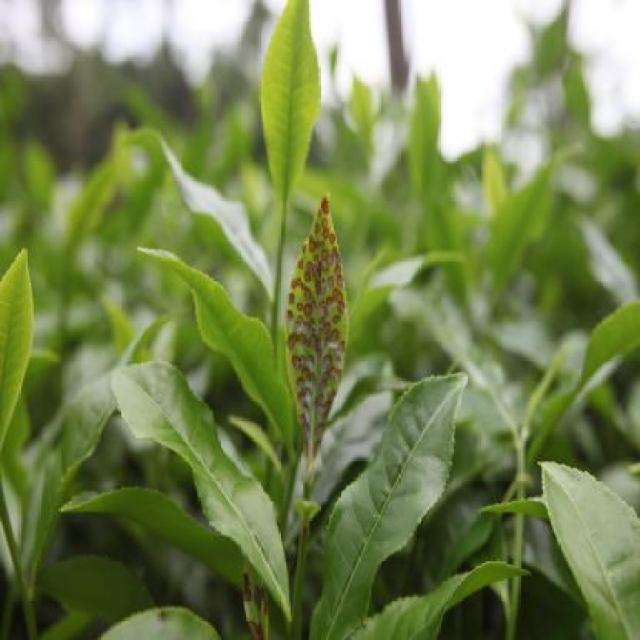Tea Mosquito bug infested leaf: (288, 192, 349, 488)
